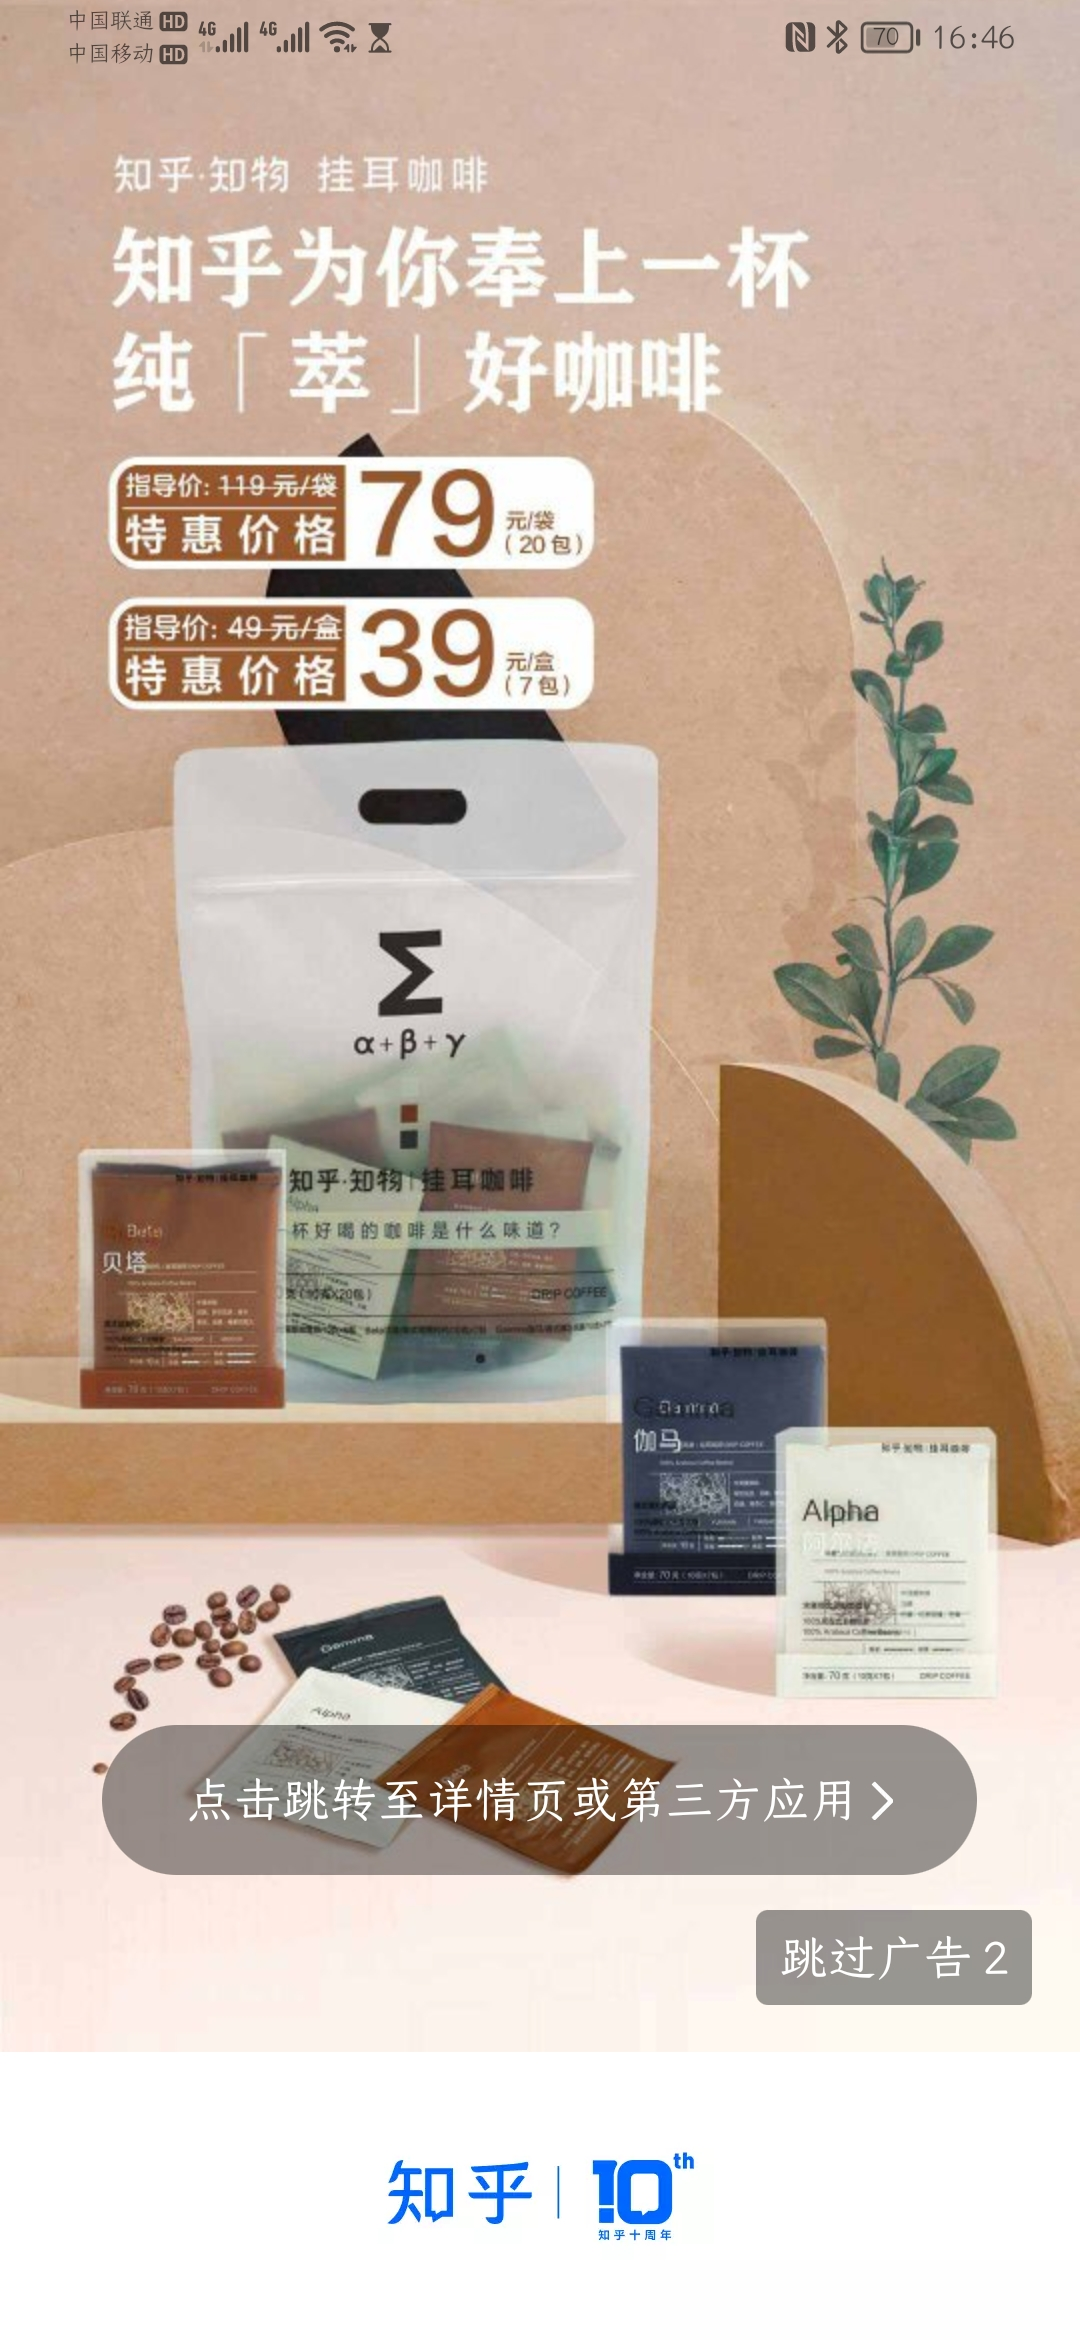skip: (755, 1906, 1020, 2012)
